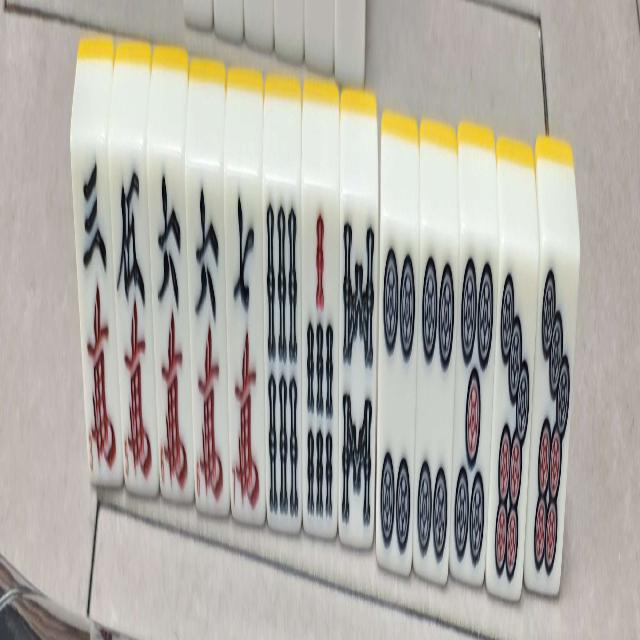m3: (79, 94, 112, 488)
m5: (114, 152, 152, 499)
m6: (153, 153, 190, 494), (193, 158, 223, 517)
m7: (229, 170, 258, 525)
s6: (264, 192, 299, 532)
s7: (306, 201, 338, 539)
s8: (341, 206, 378, 540)
t4: (380, 218, 414, 567), (419, 242, 453, 574)
t5: (455, 248, 493, 576)
t7: (532, 255, 569, 596), (495, 253, 530, 594)
